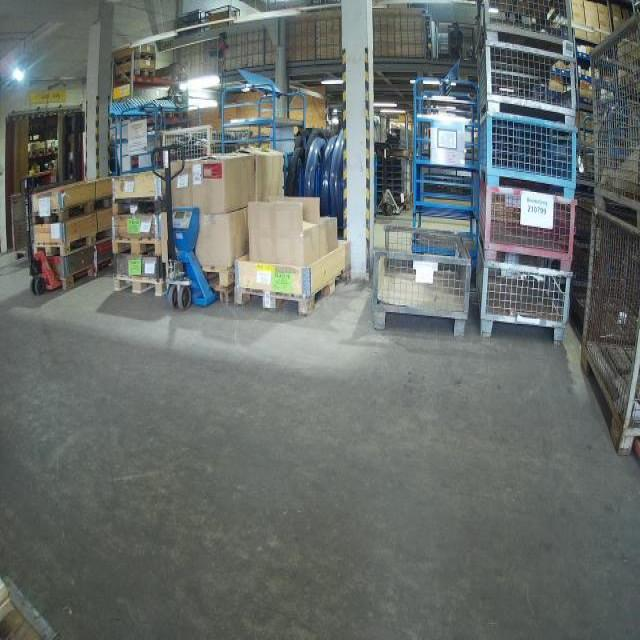pallet: (233, 263, 352, 319), (31, 192, 111, 229), (33, 227, 113, 261), (61, 258, 113, 295), (111, 273, 168, 299), (111, 235, 165, 259), (110, 195, 166, 216), (116, 52, 156, 69), (116, 67, 156, 80)
pallet_truck: (146, 130, 219, 312), (14, 169, 78, 296)
stillage: (569, 204, 638, 457), (367, 219, 471, 343), (582, 20, 640, 214), (468, 36, 586, 128), (476, 238, 577, 344), (473, 179, 581, 261), (472, 114, 577, 195), (472, 1, 585, 55), (155, 127, 238, 168)
